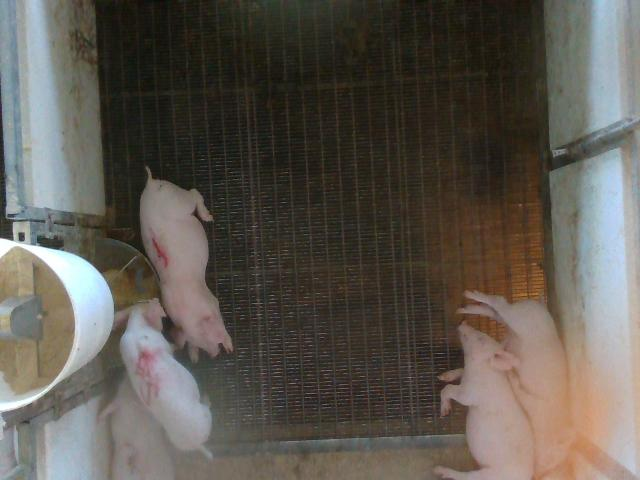pig-1: (140, 166, 232, 361)
pig-3: (100, 375, 174, 478)
pig-5: (114, 299, 211, 451)
